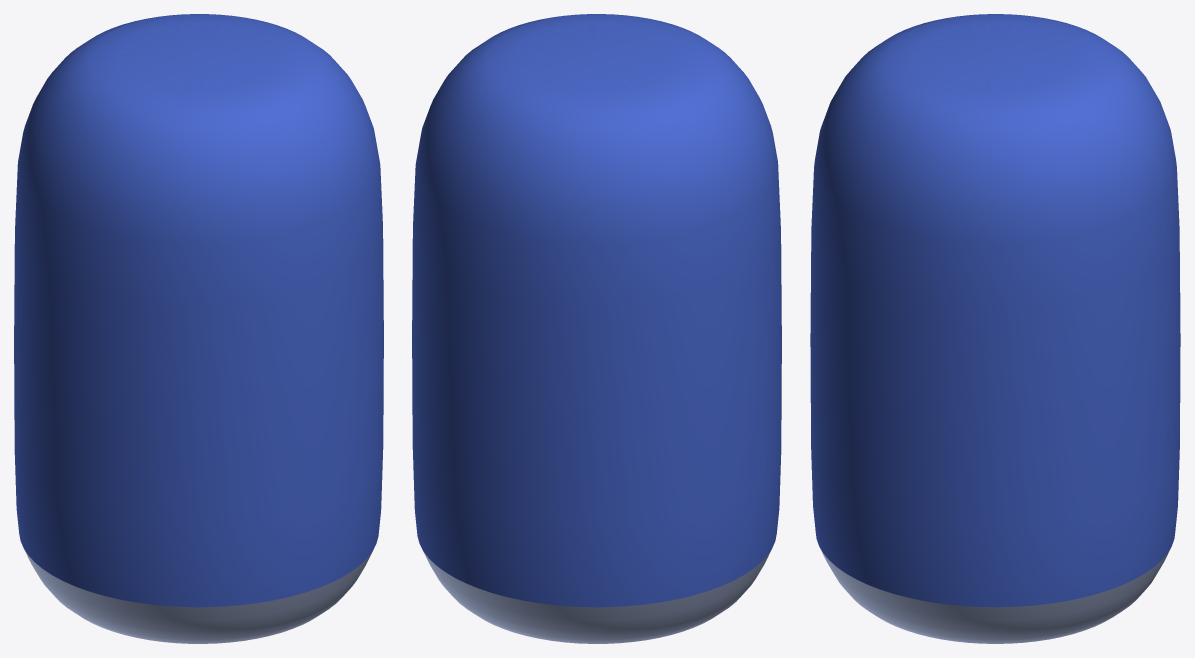
The model's file is modelka2.glb.
The picture shows the model from 3 angles, left to right: view 1: azimuth 30°, elevation 25°; view 2: azimuth 150°, elevation 25°; view 3: azimuth 270°, elevation 25°; orthographic projection.
Visible parts, largest first — view 1: Mesh.037; view 2: Mesh.037; view 3: Mesh.037.
Boxes of the visible parts, <box> form: Mesh.037: <box>14,14,383,643</box>; Mesh.037: <box>412,14,781,643</box>; Mesh.037: <box>810,14,1180,643</box>.
Size of the model in its own units: 2.24 by 3.61 by 2.24.
